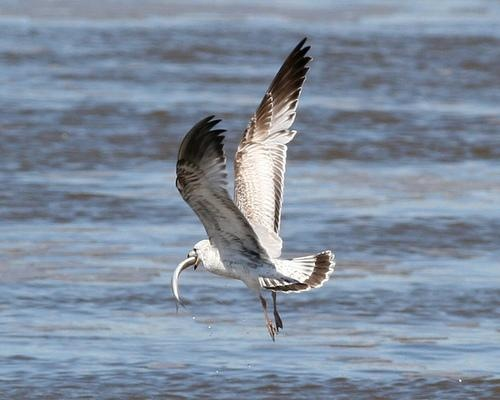bird: (165, 31, 334, 338)
